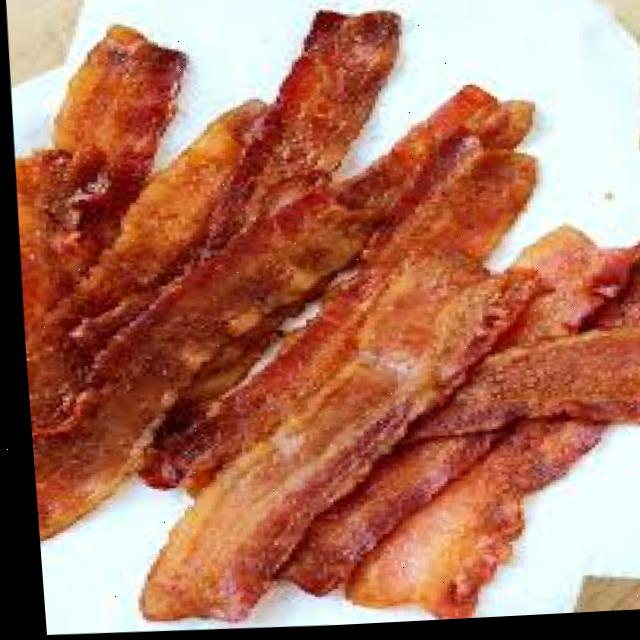Bacon: (133, 159, 534, 621), (70, 192, 374, 424), (12, 27, 184, 331), (337, 427, 595, 624), (55, 104, 266, 318), (202, 18, 395, 249), (269, 436, 493, 597), (401, 335, 640, 441)
